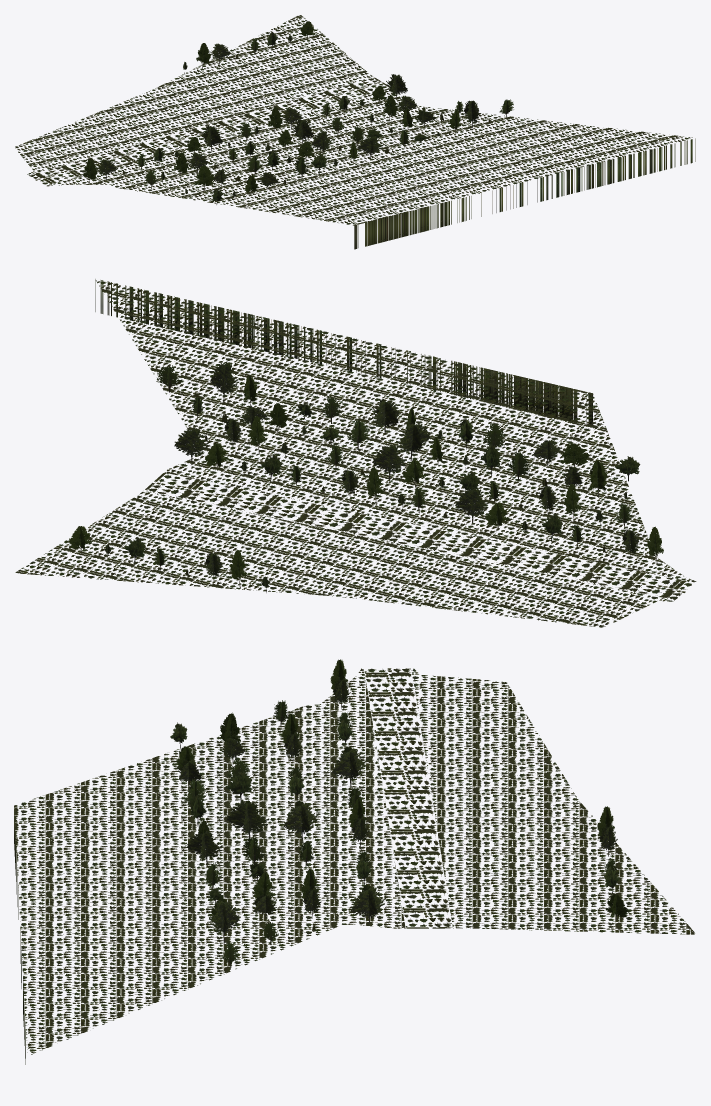
The model's file is redring3.glb.
3 renders of one model, top to bottom at view 1: azimuth 30°, elevation 25°; view 2: azimuth 150°, elevation 25°; view 3: azimuth 270°, elevation 25°, orthographic. The views are drawn at different scales.
Parts seen in each view (by area): view 1: redring3; view 2: redring3; view 3: redring3.
Part boxes in pixels (x1=…): redring3: x1=15, y1=15, x2=695, y2=249; redring3: x1=15, y1=279, x2=696, y2=627; redring3: x1=14, y1=659, x2=694, y2=1064.
Bounding box in the file's own units: 311 × 29.05 × 230.
1 material, 1 textured.
